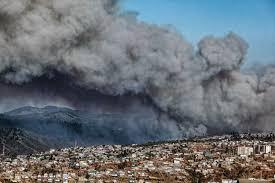yanwu: (1, 1, 273, 135)
